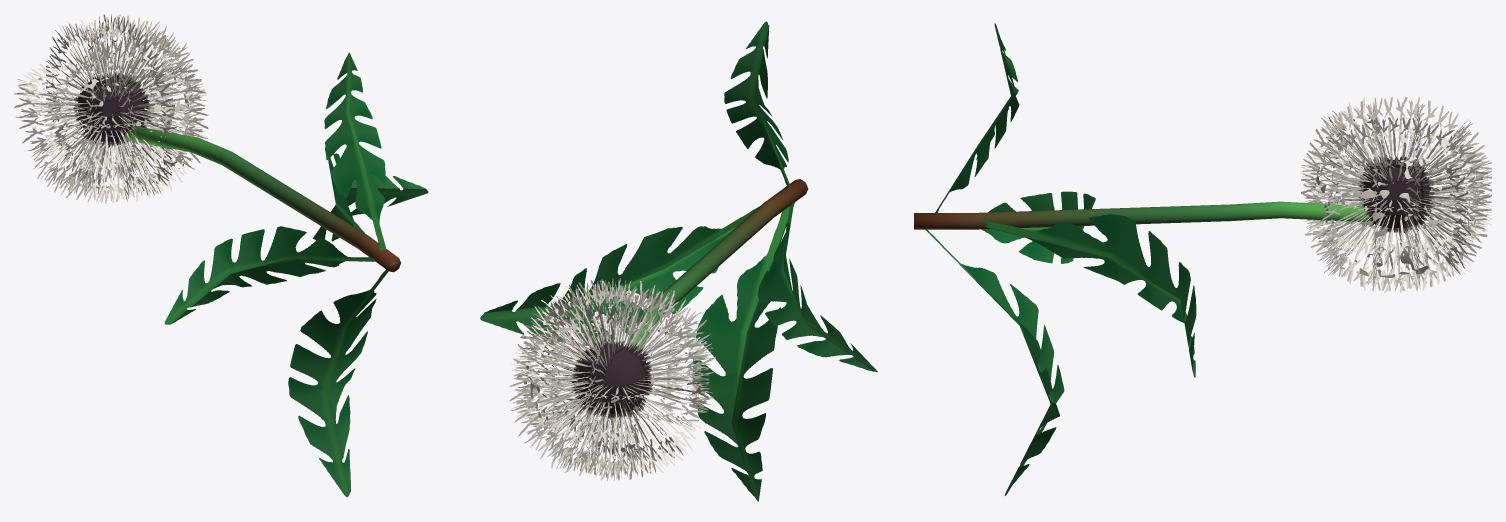
The model's file is SM_Dandelion_Puff_Broken.fbx.
3 renders of one model, left to right at view 1: azimuth 30°, elevation 25°; view 2: azimuth 150°, elevation 25°; view 3: azimuth 270°, elevation 25°, orthographic. The views are drawn at different scales.
Visible parts, largest first — view 1: Dandelion_Puff_Broken; view 2: Dandelion_Puff_Broken; view 3: Dandelion_Puff_Broken.
Boxes of the visible parts, x1=… form: Dandelion_Puff_Broken: x1=14, y1=14, x2=428, y2=497; Dandelion_Puff_Broken: x1=480, y1=21, x2=877, y2=501; Dandelion_Puff_Broken: x1=914, y1=23, x2=1491, y2=495.
Size of the model in its own units: 135 by 178 by 191.
